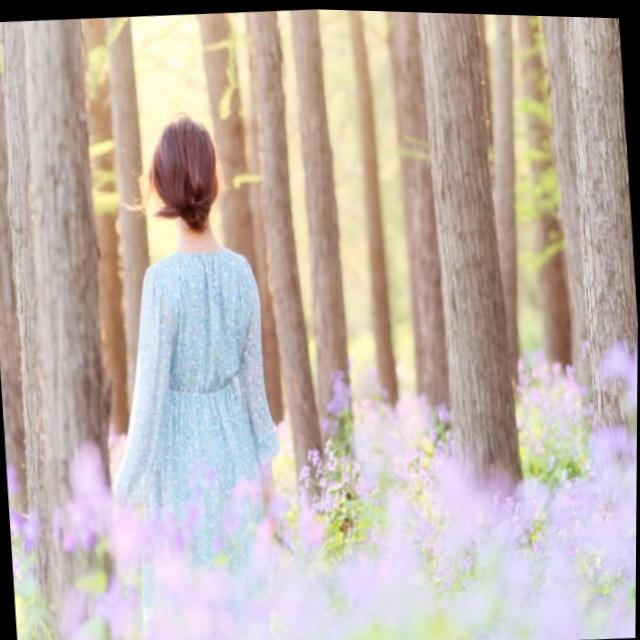no helmet: (150, 112, 216, 224)
